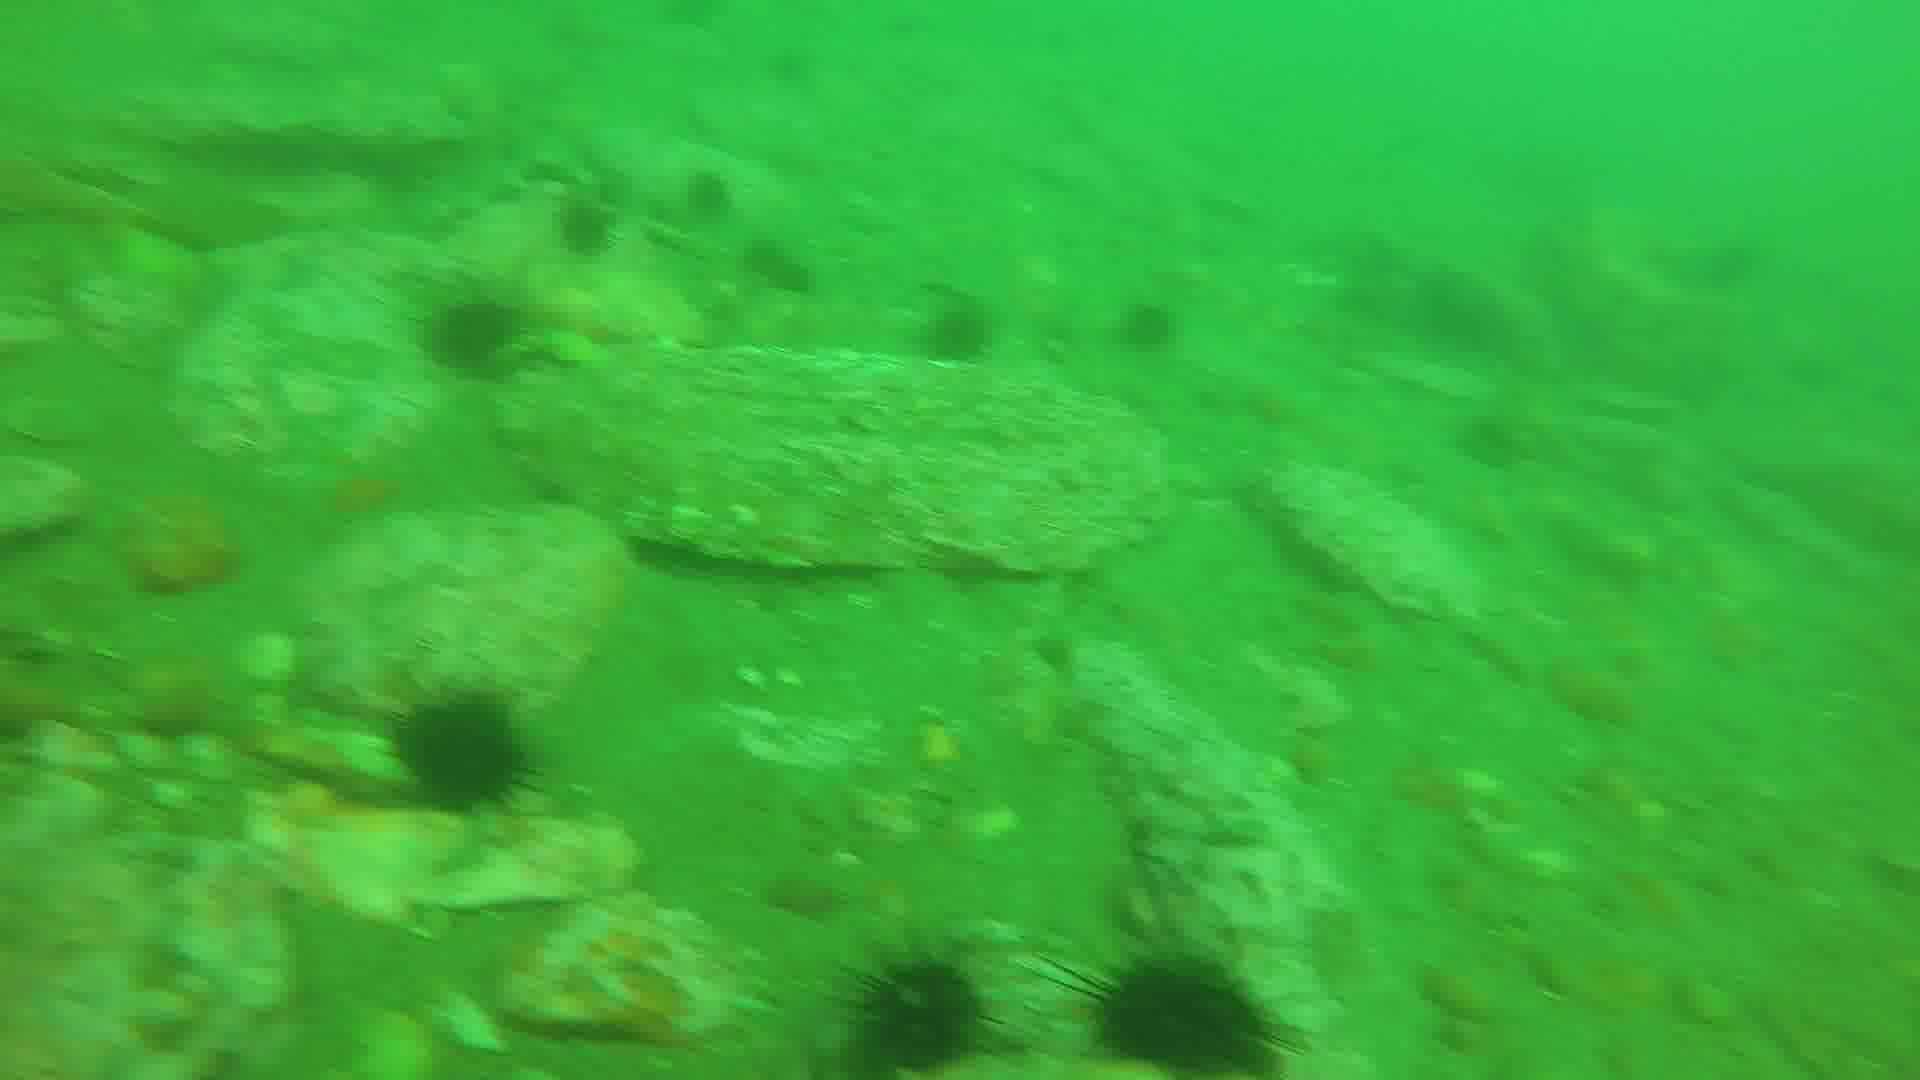echinus: (1073, 951, 1274, 1080), (384, 679, 530, 808), (849, 953, 984, 1075), (434, 289, 516, 355), (560, 200, 621, 265), (934, 313, 997, 371), (746, 237, 808, 290), (684, 161, 738, 204), (1130, 303, 1176, 353)
